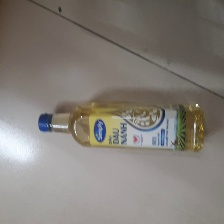Simply: (35, 101, 209, 155)
